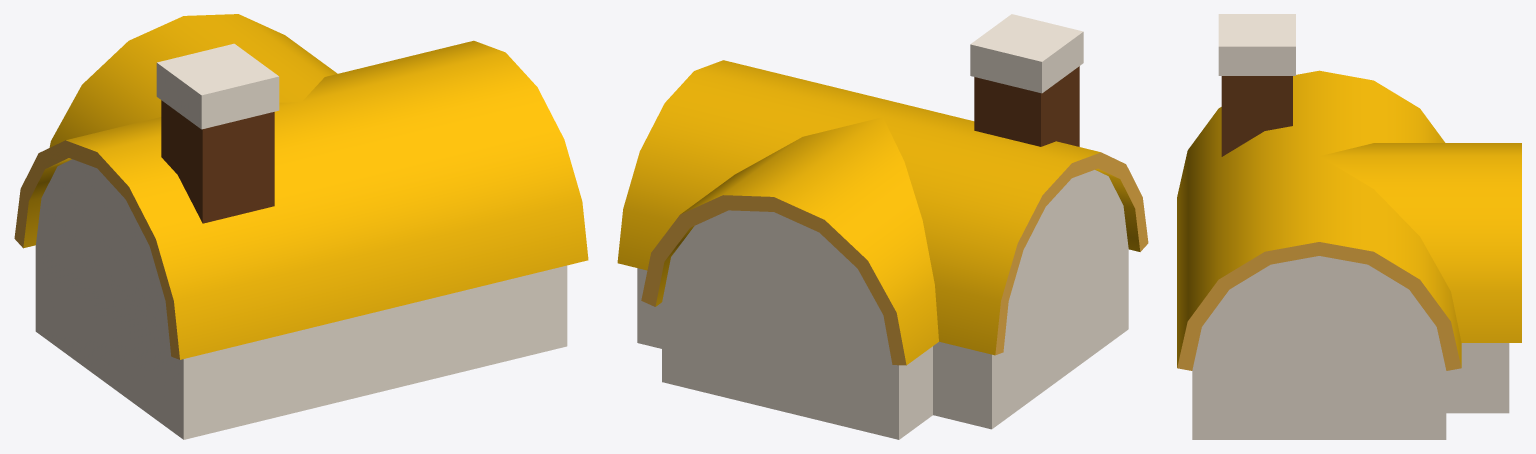
File: Map-House-R-Lv2.003.fbx
3 renders of one model, left to right at view 1: azimuth 30°, elevation 25°; view 2: azimuth 150°, elevation 25°; view 3: azimuth 270°, elevation 25°, orthographic. The views are drawn at different scales.
Visible parts, largest first — view 1: Map-House-R-Lv2.003; view 2: Map-House-R-Lv2.003; view 3: Map-House-R-Lv2.003.
Part boxes in pixels (box(x1,y1,x2,y2)): Map-House-R-Lv2.003: box(14, 14, 588, 439); Map-House-R-Lv2.003: box(617, 14, 1148, 439); Map-House-R-Lv2.003: box(1177, 14, 1521, 439).
Bounding box in the file's own units: 1.6 × 1.22 × 1.37.
